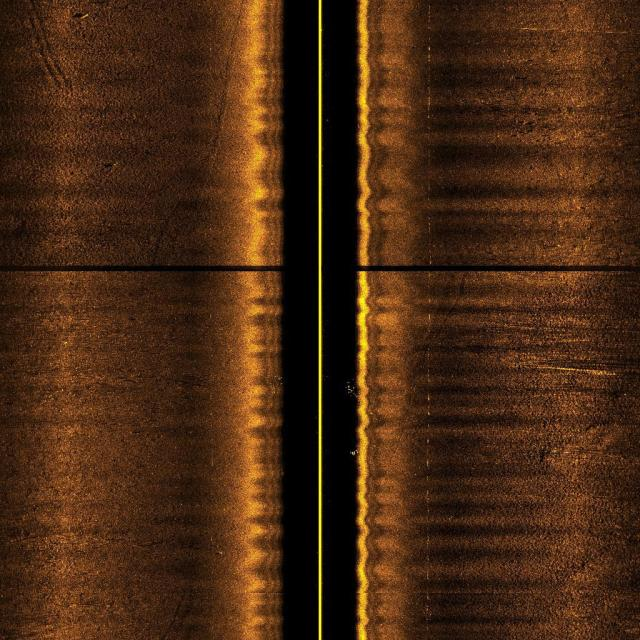mine: (70, 10, 92, 21)
